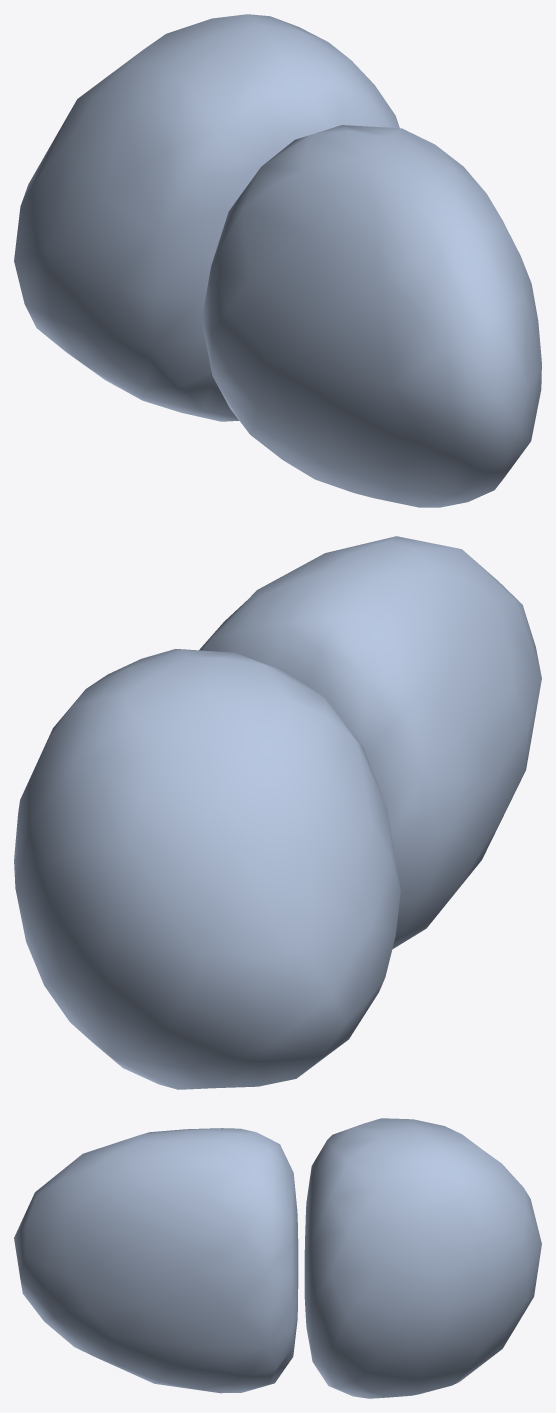
3 views of the same model, one above another, from view 1: azimuth 30°, elevation 25°; view 2: azimuth 150°, elevation 25°; view 3: azimuth 270°, elevation 25° (orthographic). The views are drawn at different scales.
Parts seen in each view (by area): view 1: 右侧筛骨前群小房; view 2: 右侧筛骨前群小房; view 3: 右侧筛骨前群小房.
Boxes of the visible parts, bbox=[...] form: 右侧筛骨前群小房: bbox=[14, 14, 541, 507]; 右侧筛骨前群小房: bbox=[14, 536, 541, 1089]; 右侧筛骨前群小房: bbox=[14, 1118, 541, 1398].
Bounding box in the file's own units: 0.0106 × 0.0113 × 0.0209.
